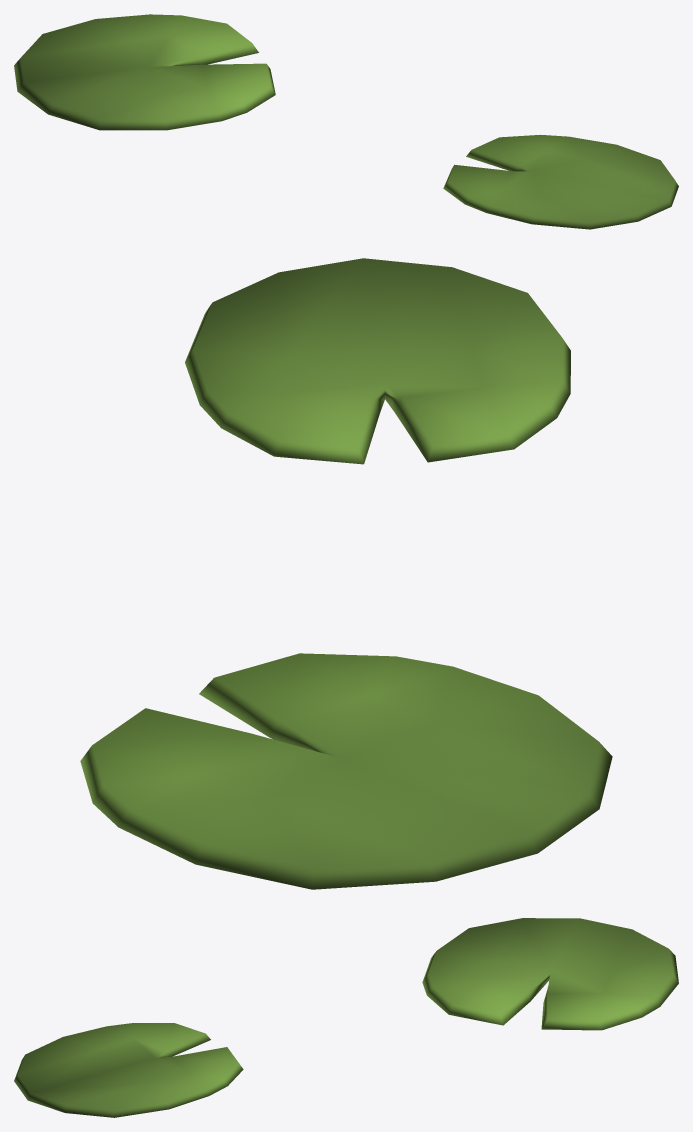
File: Lumme_pieni.fbx
3 views of the same model, one above another, from view 1: azimuth 30°, elevation 25°; view 2: azimuth 150°, elevation 25°; view 3: azimuth 270°, elevation 25° (orthographic). The views are drawn at different scales.
Parts seen in each view (by area): view 1: Lumme_pieni; view 2: Lumme_pieni; view 3: Lumme_pieni.
Part boxes in pixels (x1,y1,x2,y2): Lumme_pieni: (14, 14, 678, 229); Lumme_pieni: (80, 258, 612, 889); Lumme_pieni: (14, 918, 678, 1117).
Bounding box in the file's own units: 1.56 × 0.0212 × 1.09.
